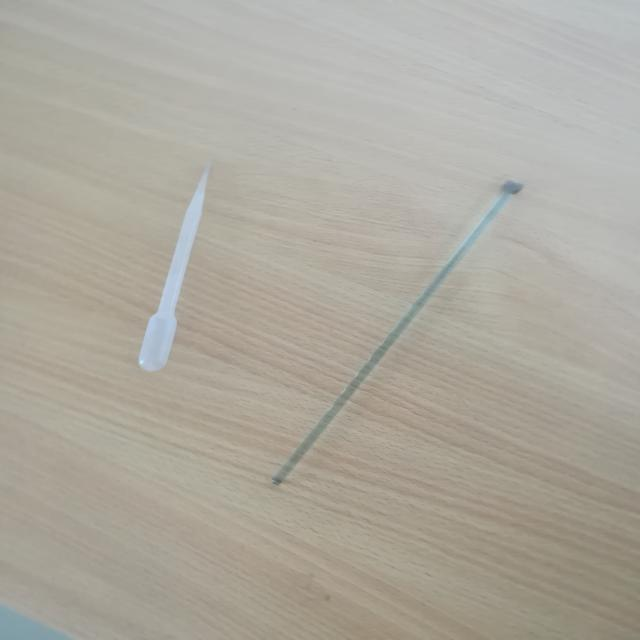Glass_Rod: (256, 152, 570, 510)
Pipette: (110, 136, 251, 381)
